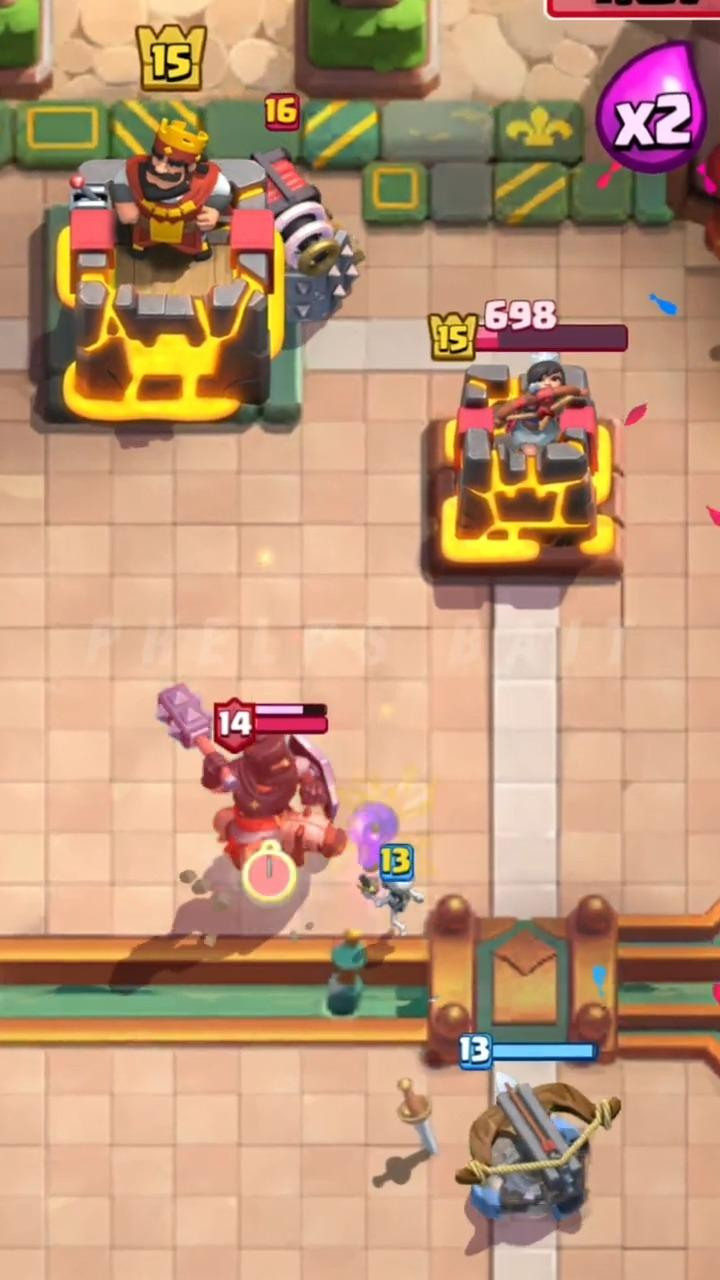dark prince: (202, 734, 346, 892)
skeleton: (359, 874, 424, 935)
sparky: (250, 148, 359, 323)
x-bow: (456, 1072, 621, 1222)
